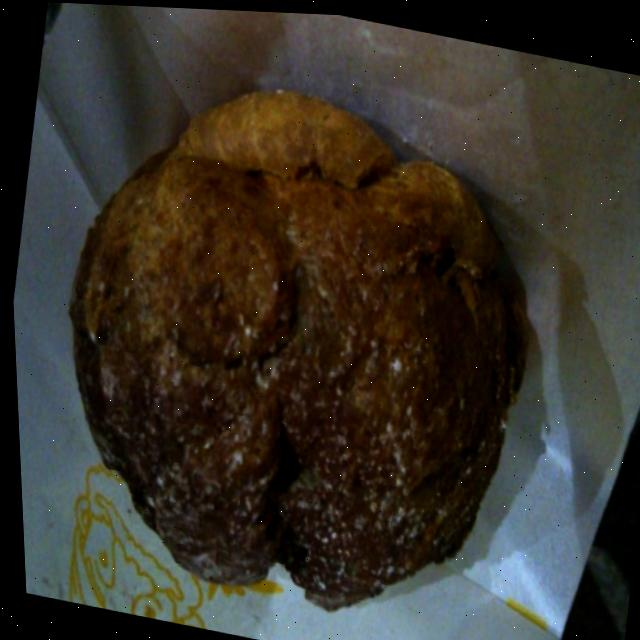炸货点心: (28, 39, 573, 640)
蛋糕甜品: (28, 39, 573, 640)
